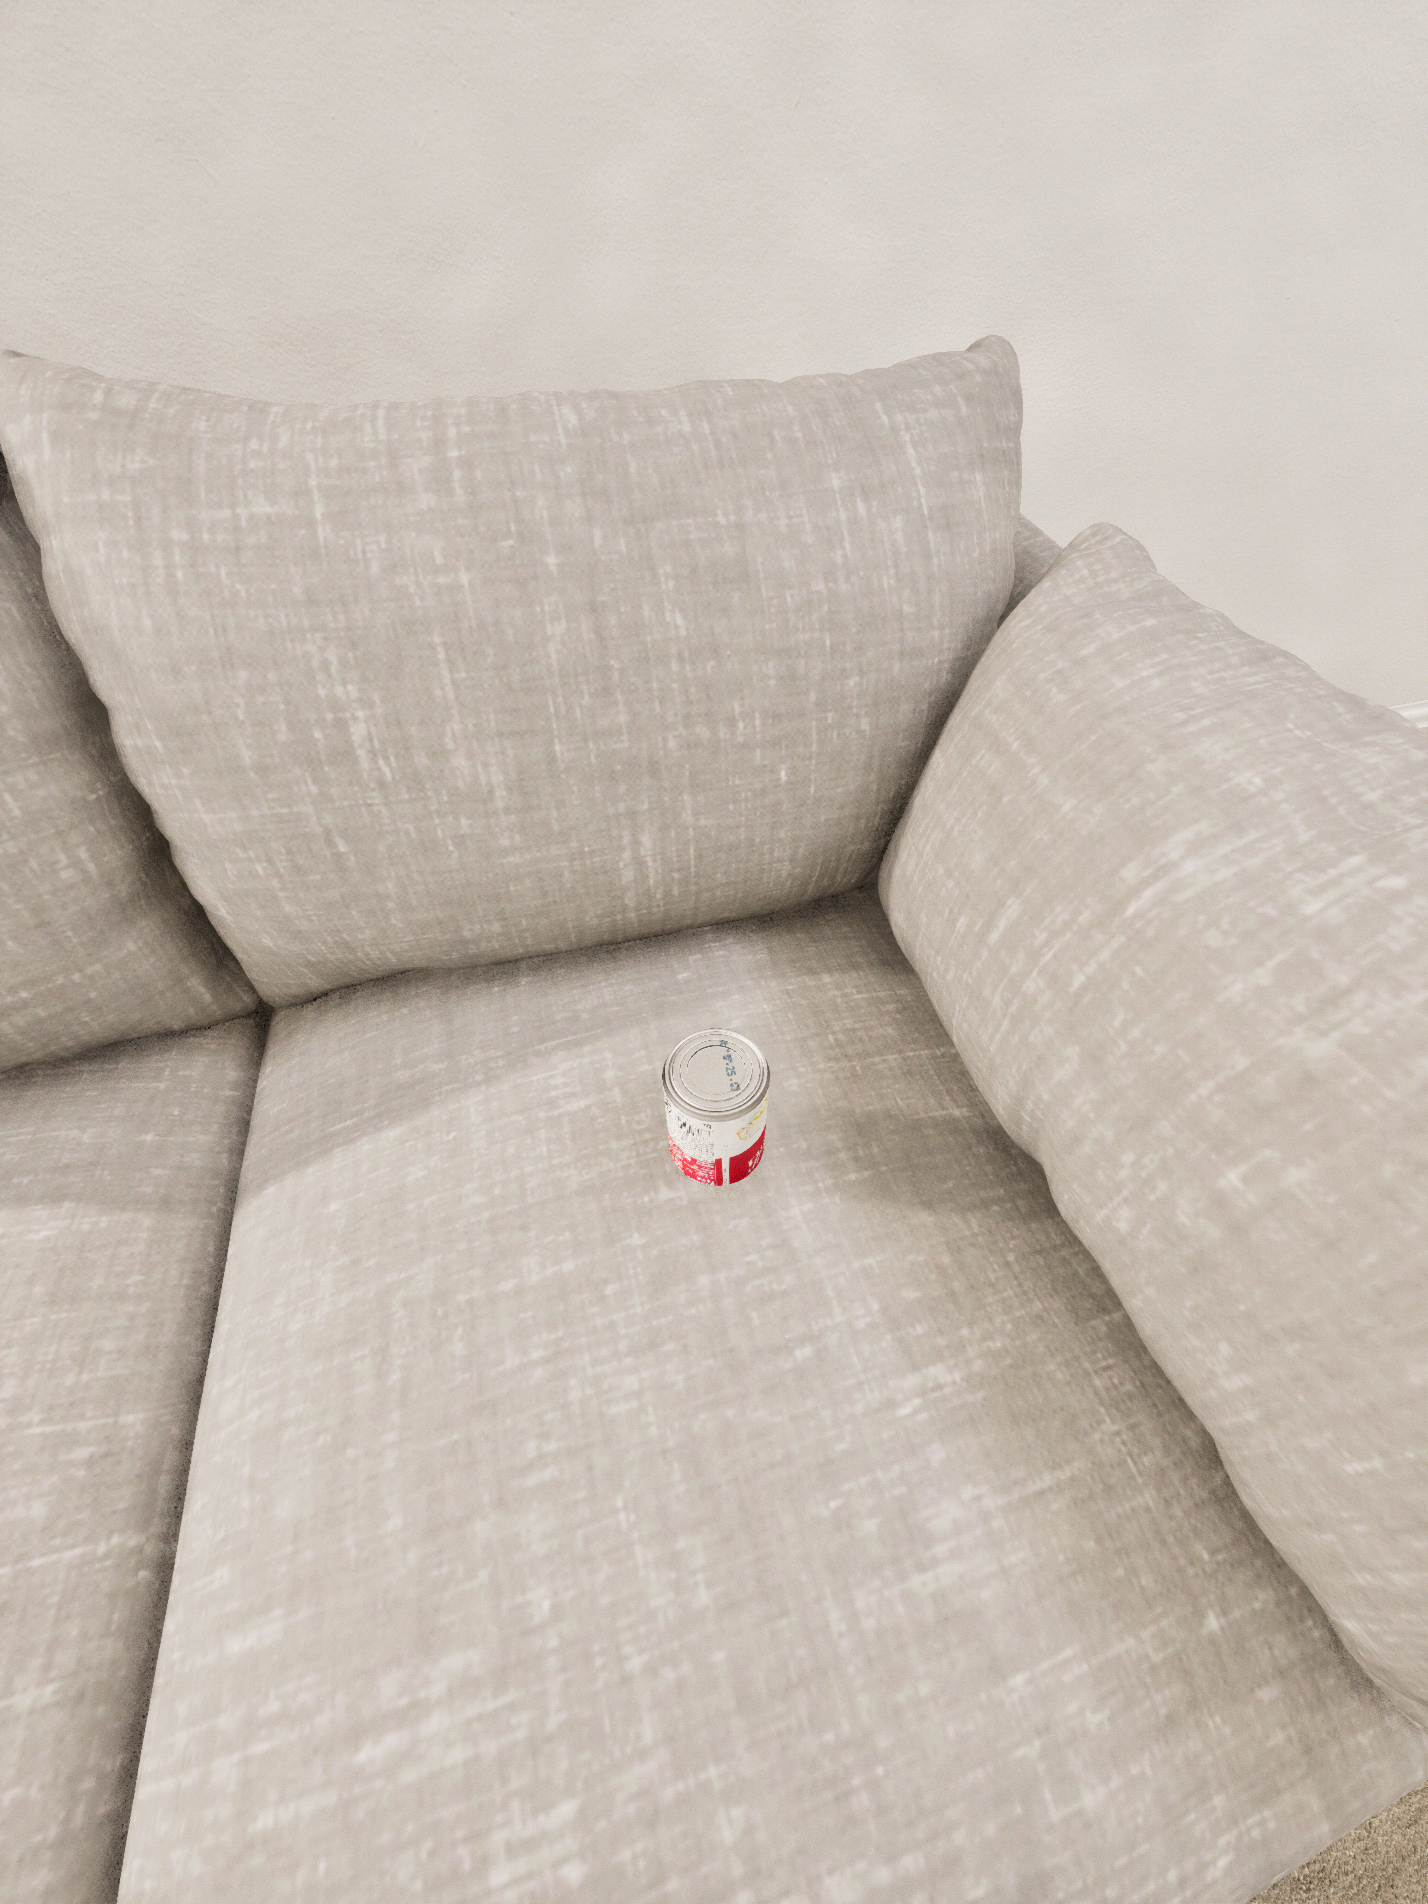soup: (526, 1309, 661, 1477)
